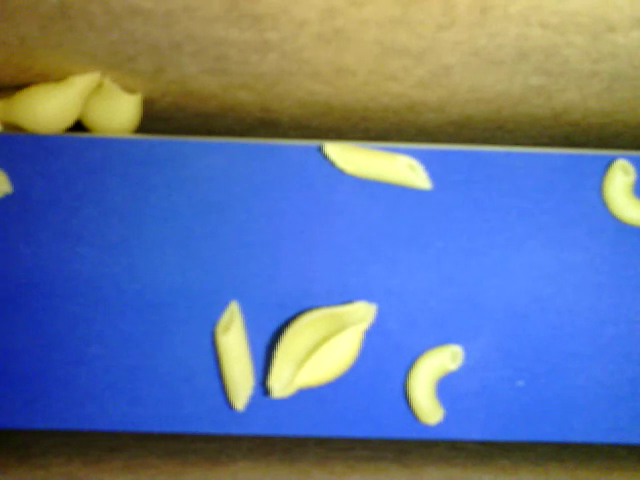elbow: (408, 341, 468, 424), (600, 156, 639, 232)
penne: (317, 137, 434, 189), (216, 295, 258, 415)
shell: (268, 301, 376, 395), (1, 71, 99, 132), (82, 72, 141, 133)
